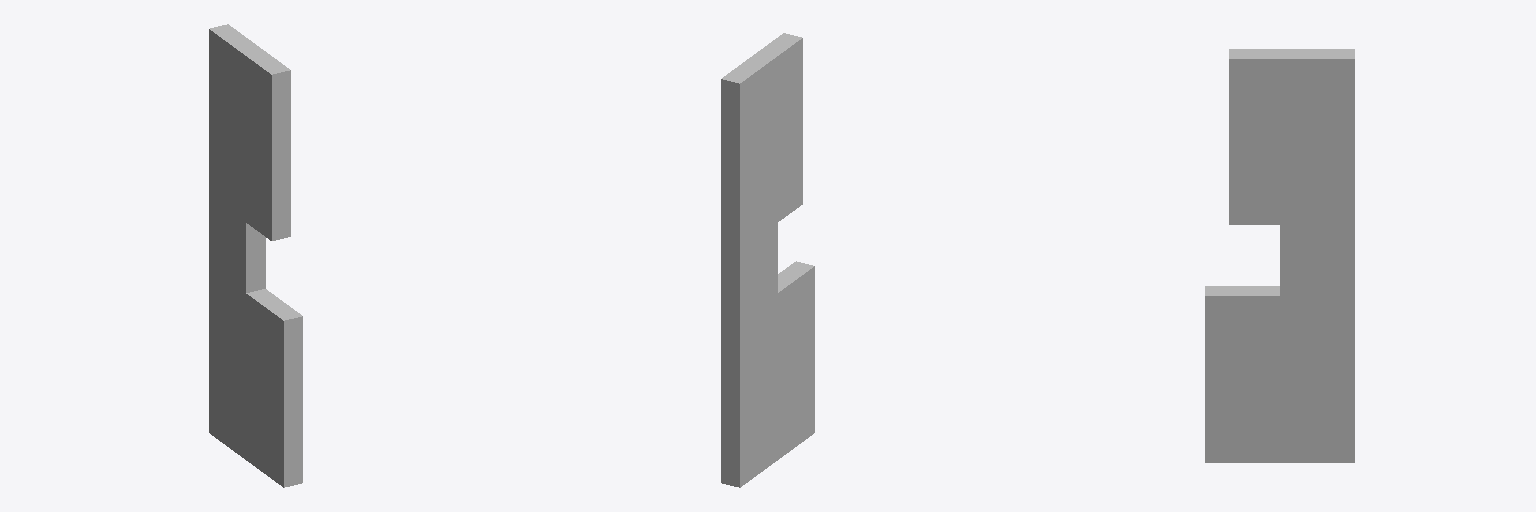
The model's file is slide door 1.obj.
The picture shows the model from 3 angles: view 1: azimuth 30°, elevation 25°; view 2: azimuth 150°, elevation 25°; view 3: azimuth 270°, elevation 25°; orthographic projection.
Parts seen in each view (by area): view 1: Cube.015_Cube.002; view 2: Cube.015_Cube.002; view 3: Cube.015_Cube.002.
Boxes of the visible parts, box(x1,y1,x2,y2) form: Cube.015_Cube.002: box(209, 24, 302, 487); Cube.015_Cube.002: box(721, 33, 814, 487); Cube.015_Cube.002: box(1205, 49, 1354, 462).
Bounding box in the file's own units: 0.2 × 4 × 1.35.